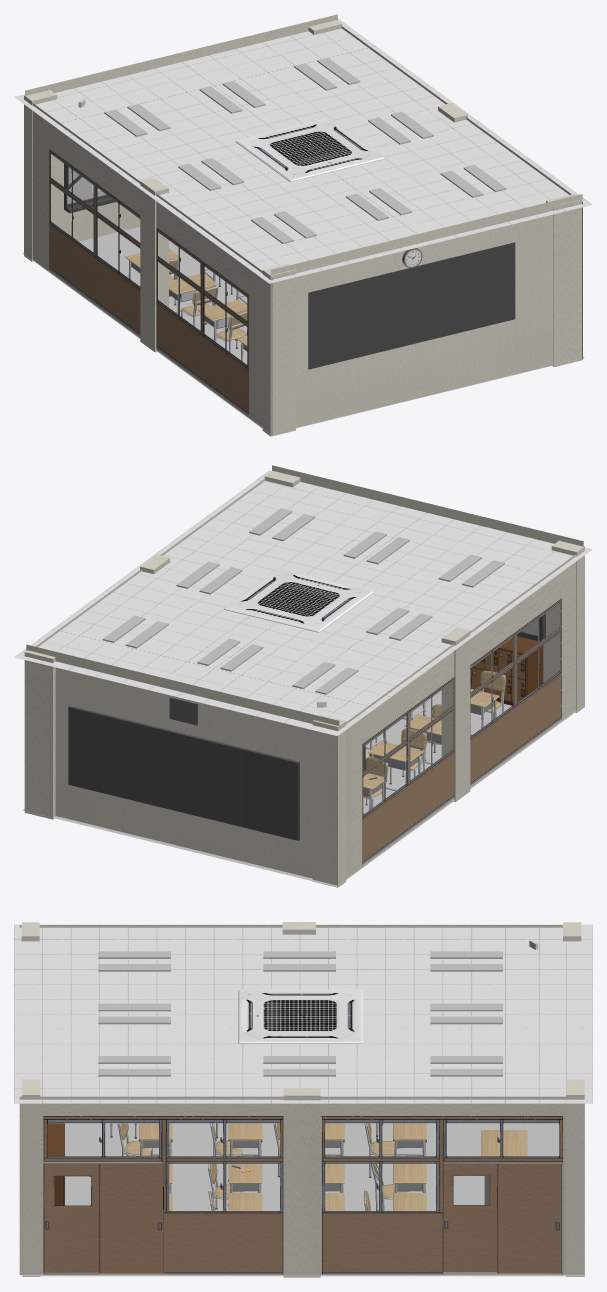
Rendered from classroom.fbx.
3 views of the same model, one above another, from view 1: azimuth 30°, elevation 25°; view 2: azimuth 150°, elevation 25°; view 3: azimuth 270°, elevation 25° (orthographic). The views are drawn at different scales.
Parts seen in each view (by area): view 1: pPlane8, pPlane7, pPlane6, polySurface9, pCube9, pCube14, pPlane5, pCube10, badak, pCube6, pCube7, polySurface1; view 2: pPlane8, pPlane6, pPlane5, polySurface9 (×3), pCube7, pCube14, pCube8, pCube6, badak, pPlane7, locker, pCube9 (+3 smaller); view 3: pPlane8, polySurface1, badak, polySurface7, polySurface5, pCube5, pCube14, polySurface6, polySurface4, pCube15 (×8), pCube17 (×8), desk5 (×6) (+5 smaller).
Part boxes in pixels (<box>): pPlane8: <box>14,18,592,283</box>; pPlane7: <box>270,194,582,427</box>; pPlane6: <box>32,103,272,435</box>; polySurface9: <box>308,242,515,369</box>; pCube9: <box>262,264,295,436</box>; pCube14: <box>235,117,384,181</box>; pPlane5: <box>25,14,337,241</box>; pCube10: <box>546,194,582,366</box>; badak: <box>22,227,584,433</box>; pCube6: <box>140,178,168,352</box>; pCube7: <box>24,90,57,261</box>; polySurface1: <box>341,26,582,359</box>; pPlane8: <box>14,470,592,736</box>; pPlane6: <box>346,554,576,878</box>; pPlane5: <box>26,644,339,878</box>; polySurface9 (×3): <box>68,706,299,840</box>; pCube7: <box>312,715,345,887</box>; pCube14: <box>224,568,373,632</box>; pCube8: <box>24,650,55,819</box>; pCube6: <box>441,627,470,801</box>; badak: <box>22,690,584,886</box>; pPlane7: <box>272,465,583,682</box>; locker: <box>470,636,543,705</box>; pCube9: <box>551,540,584,712</box>; pPlane8: <box>14,924,592,1103</box>; polySurface1: <box>19,1096,566,1275</box>; badak: <box>22,1104,584,1276</box>; polySurface7: <box>99,1162,163,1274</box>; polySurface5: <box>497,1162,561,1273</box>; pCube5: <box>283,1088,320,1277</box>; pCube14: <box>238,989,363,1043</box>; polySurface6: <box>43,1162,99,1273</box>; polySurface4: <box>443,1161,497,1272</box>; pCube15 (×8): <box>98,951,502,1063</box>; pCube17 (×8): <box>98,964,502,1076</box>; desk5 (×6): <box>228,1123,426,1210</box>.
Bounding box in the file's own units: 22.72 × 11.14 × 31.05.
